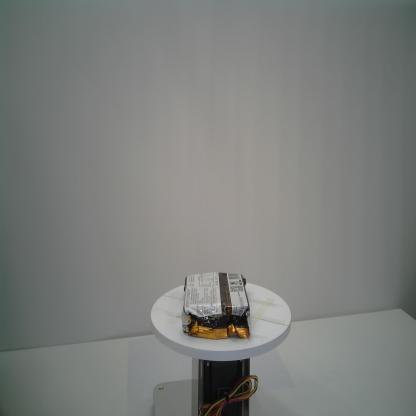Dessert: (180, 270, 254, 344)
